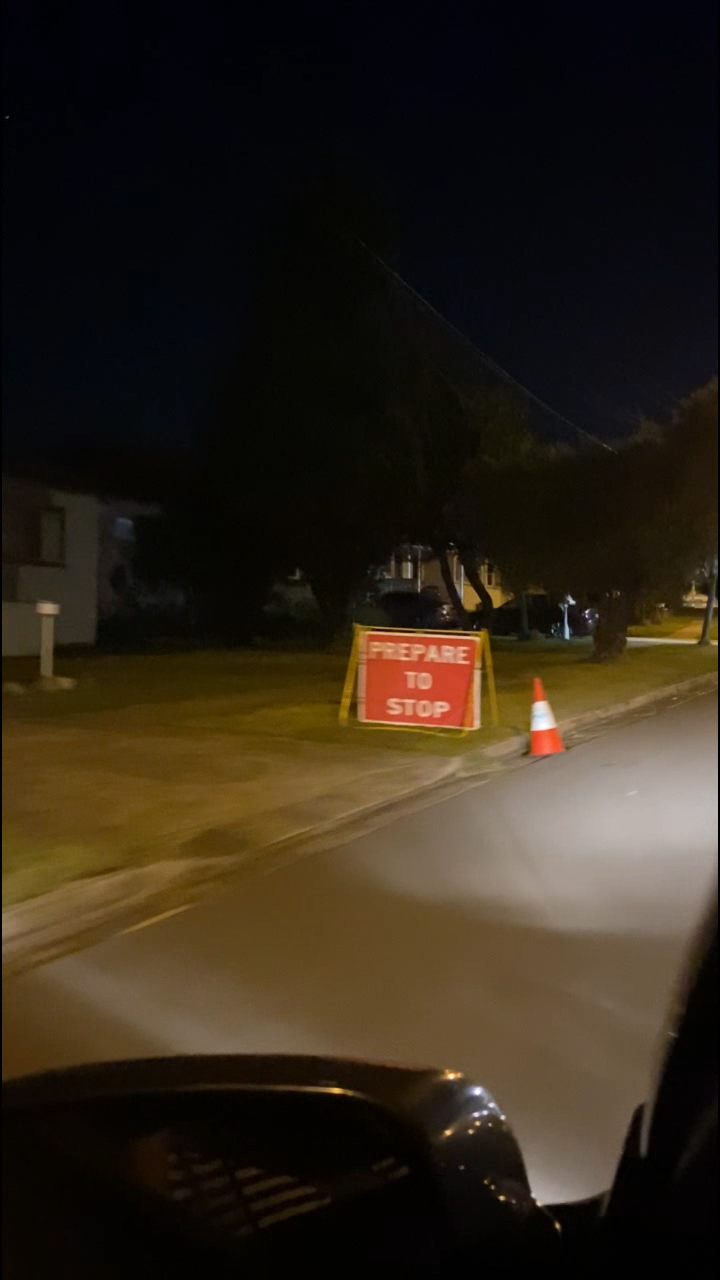prepare to stop board: (340, 615, 483, 733)
road cone: (520, 673, 560, 757)
